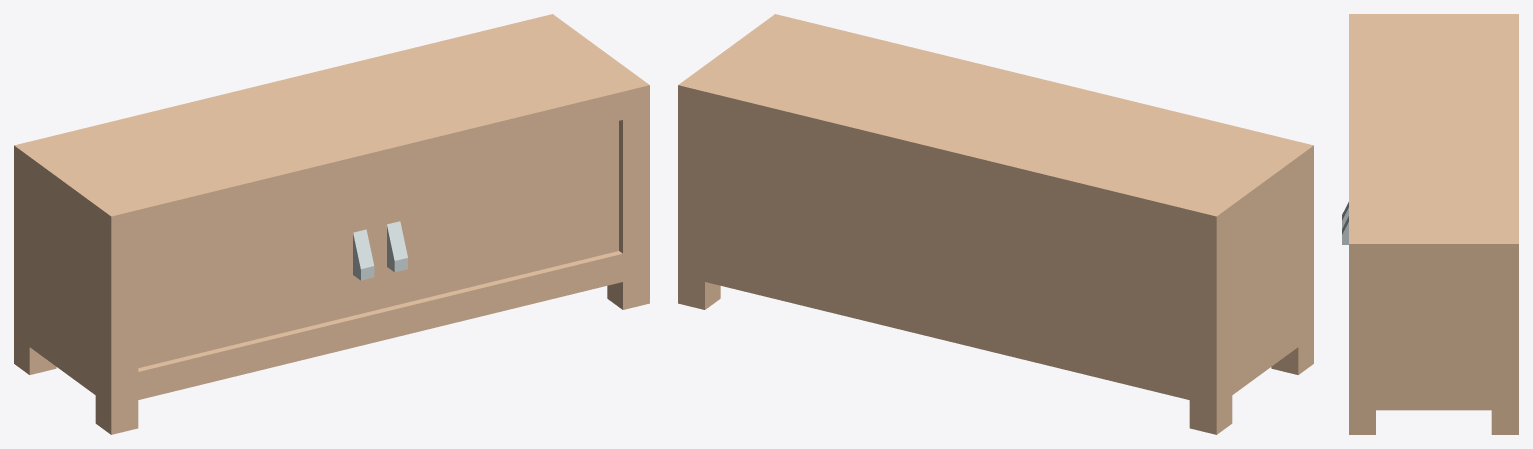
File: cabinetTelevisionDoors.glb
The picture shows the model from 3 angles, left to right: view 1: azimuth 30°, elevation 25°; view 2: azimuth 150°, elevation 25°; view 3: azimuth 270°, elevation 25°; orthographic projection. The views are drawn at different scales.
Visible parts, largest first — view 1: cabinetTelevisionDoors; view 2: cabinetTelevisionDoors; view 3: cabinetTelevisionDoors.
Part boxes in pixels (x1,y1,x2,y2): cabinetTelevisionDoors: [14, 14, 649, 434]; cabinetTelevisionDoors: [678, 14, 1313, 434]; cabinetTelevisionDoors: [1342, 14, 1518, 434].
Bounding box in the file's own units: 0.8 × 0.31 × 0.26.
